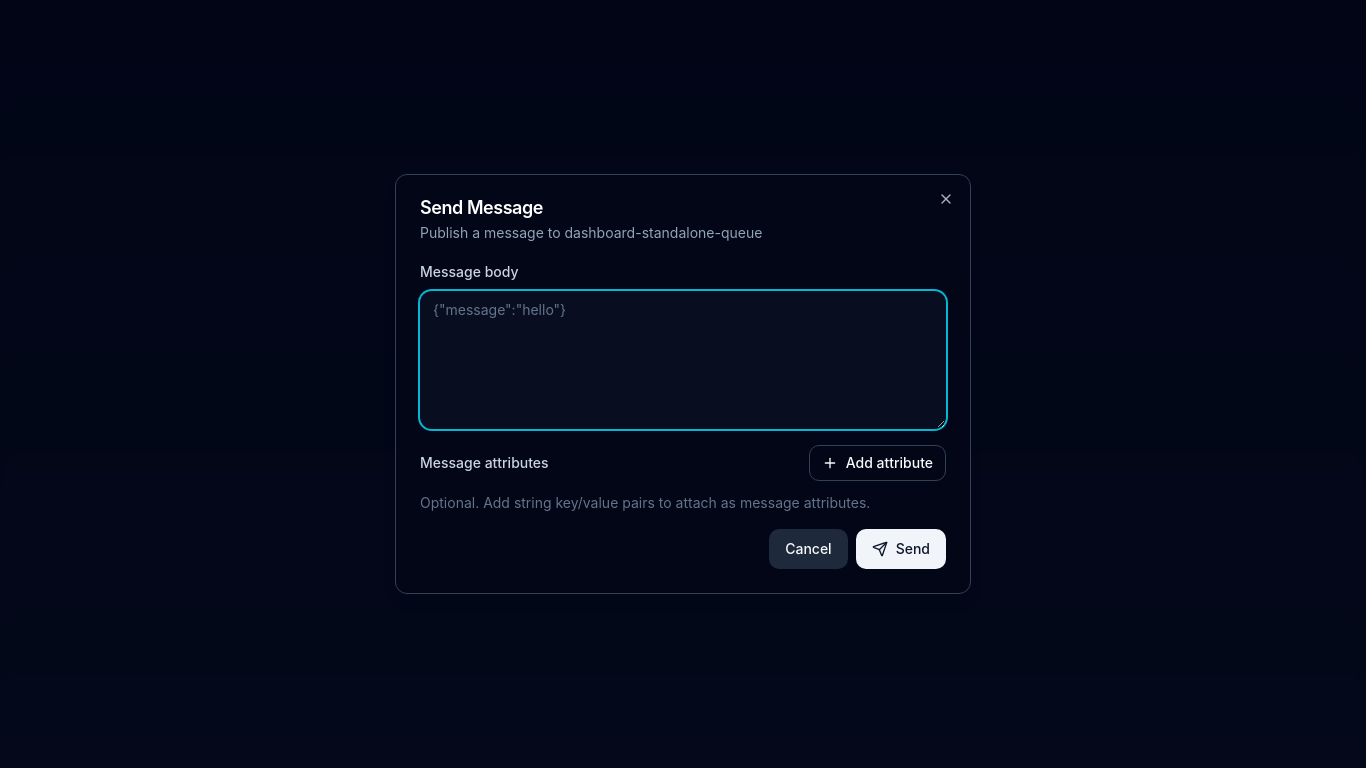
Test: SQS components › rejects an attribute row that is missing a value
Type "hello" into the text box labelled "Message body".
click(683, 360); type("hello")  # box [420,291,946,429]
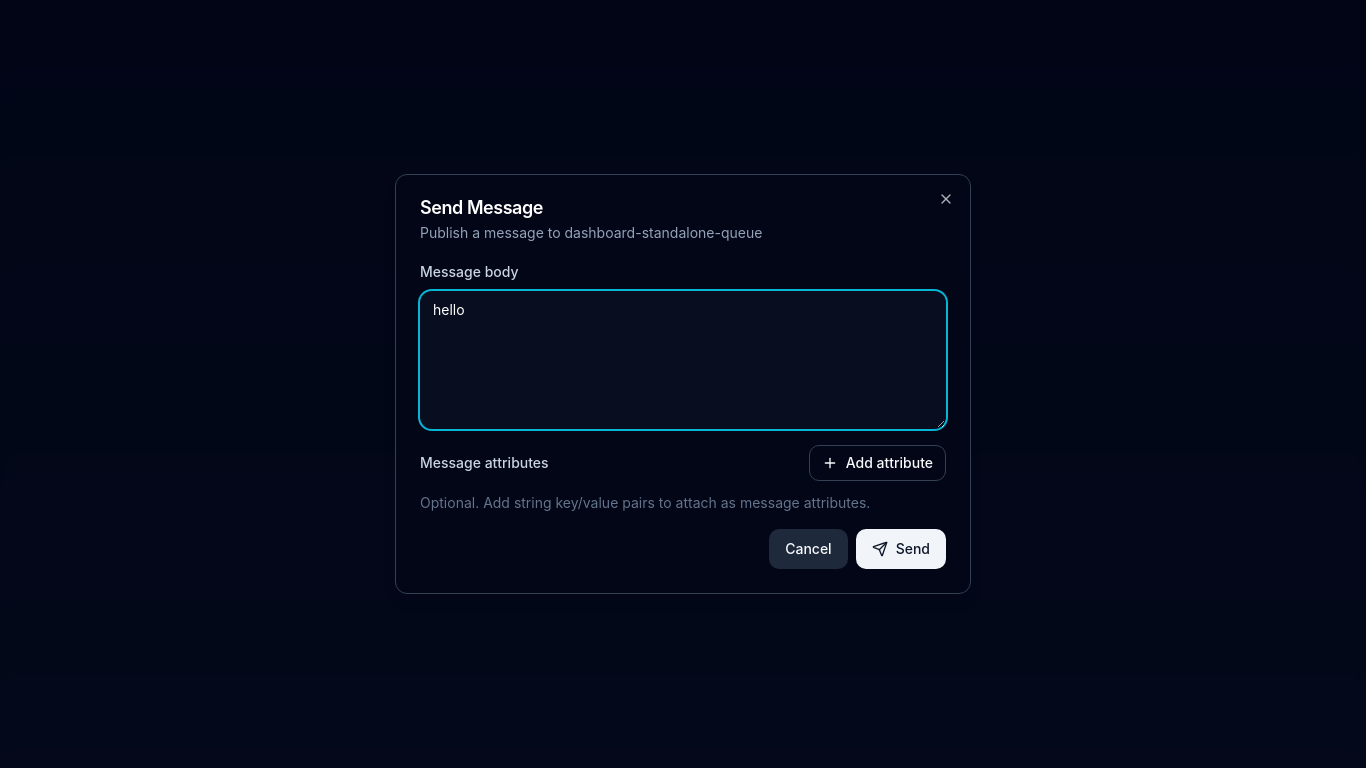
Click the button "Add attribute".
click(877, 463)  # box [809,445,946,481]
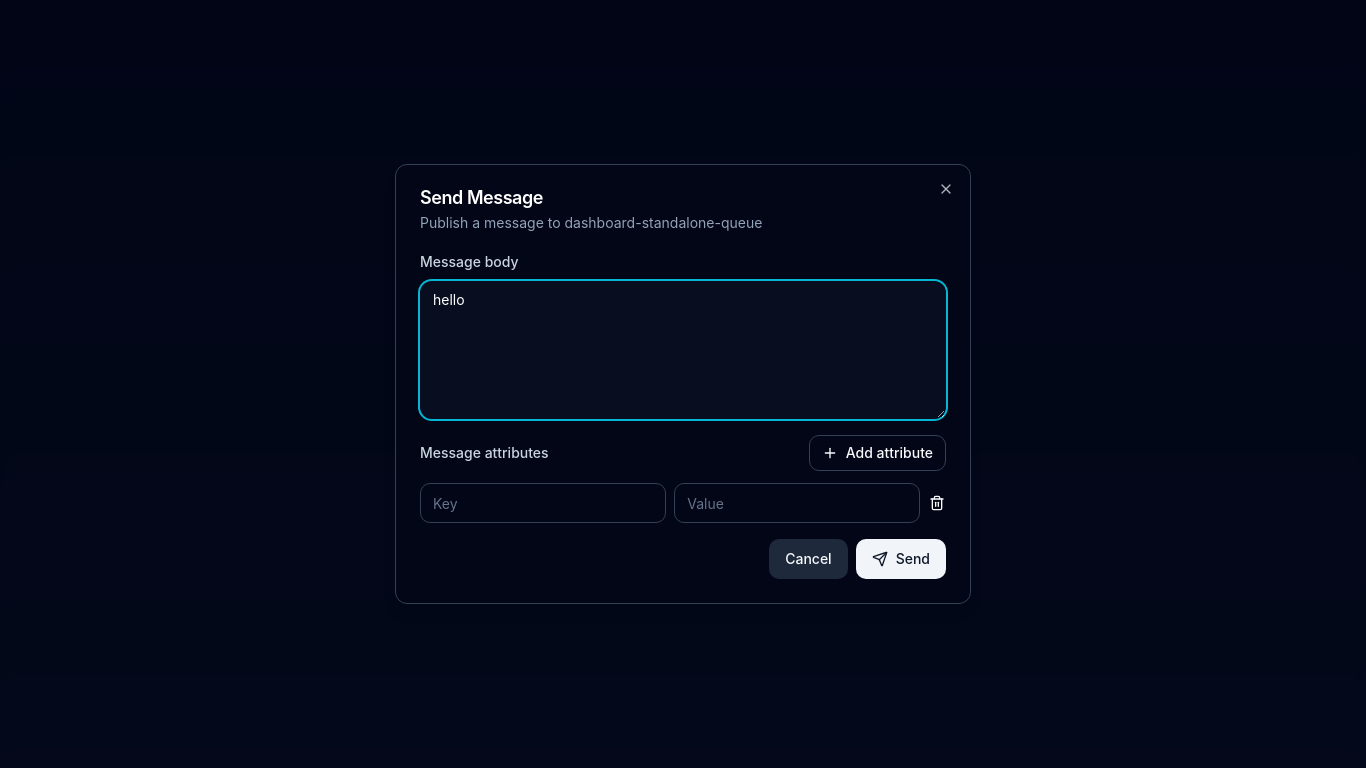
Type "source" into the field named "Attribute key".
click(543, 503); type("source")  # box [420,483,666,523]
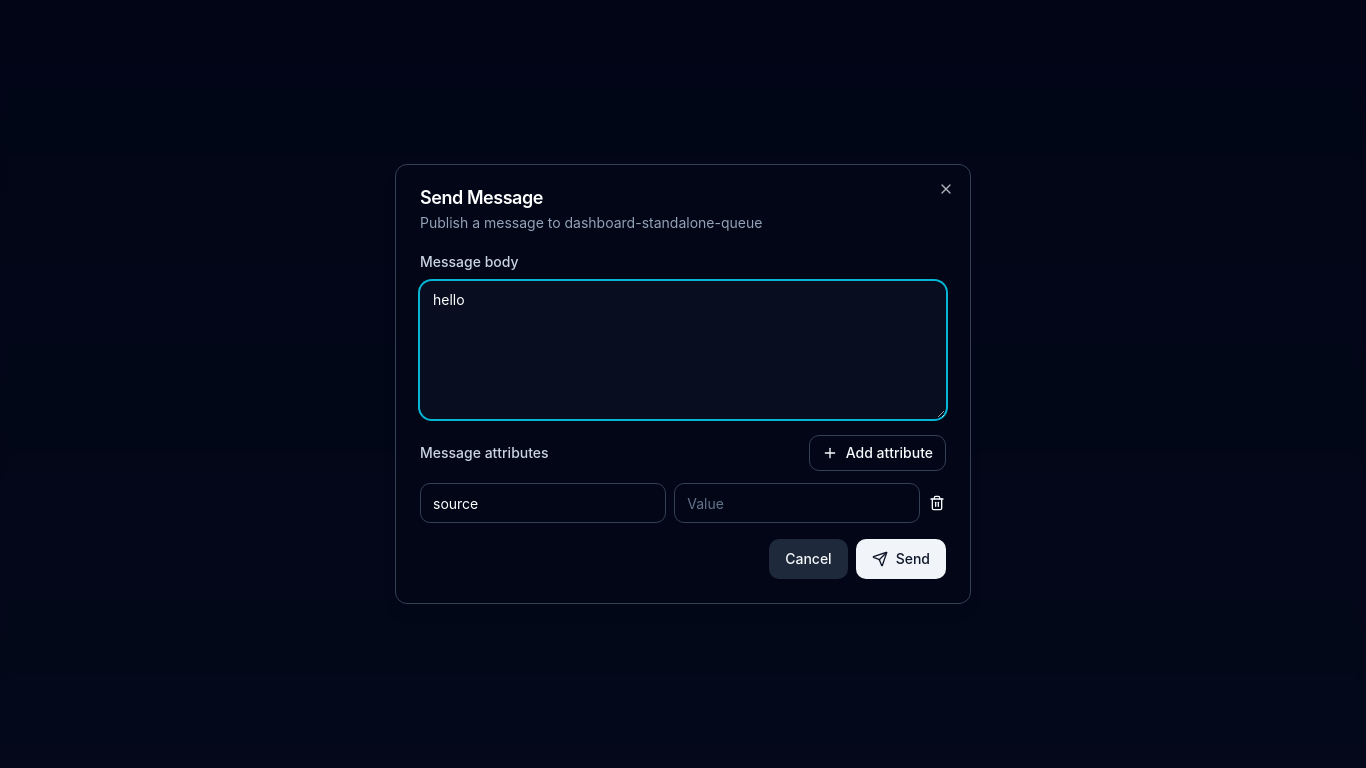
Click the button "Send".
click(901, 559)  # box [856,539,946,579]
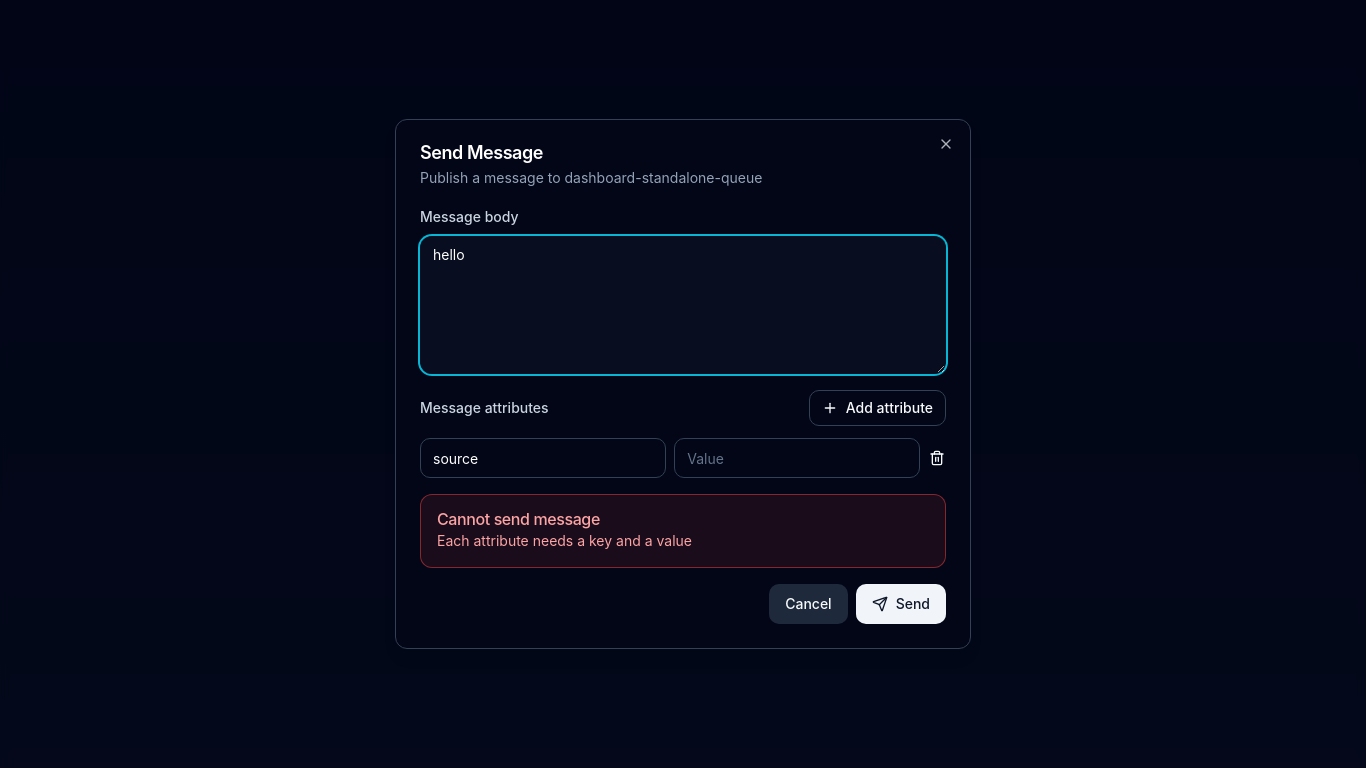
Expected: the text "Each attribute needs a key and a value" is shown, [437,532,692,549]
